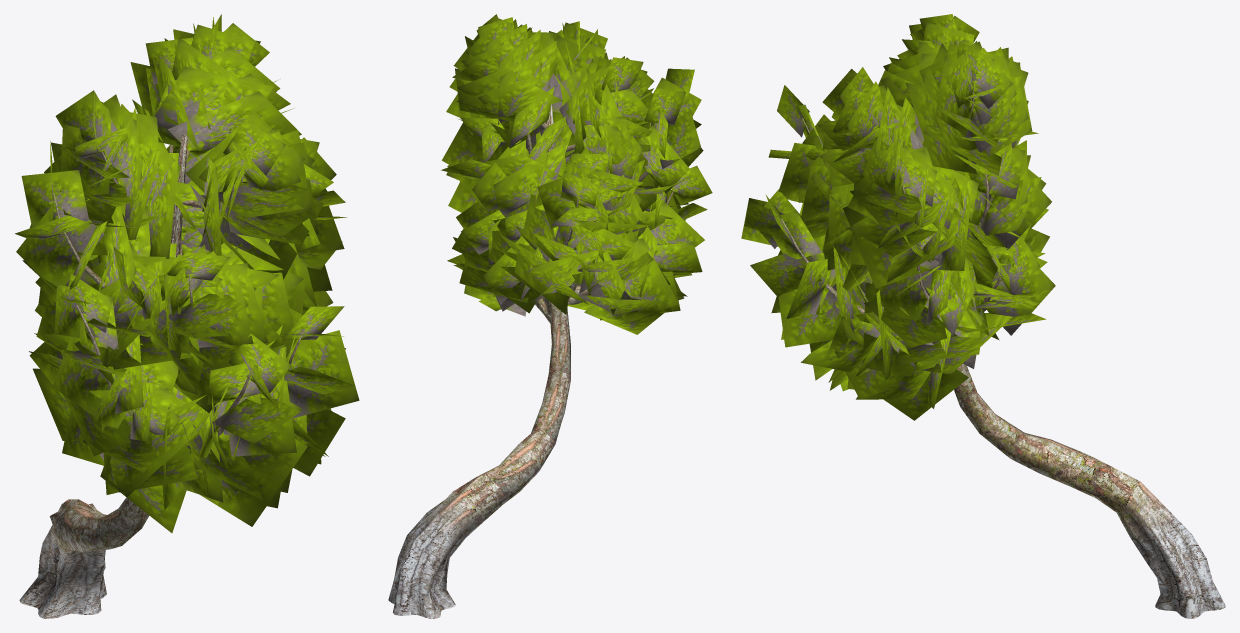
The model's file is Tree_01.fbx.
3 renders of one model, left to right at view 1: azimuth 30°, elevation 25°; view 2: azimuth 150°, elevation 25°; view 3: azimuth 270°, elevation 25°, orthographic. The views are drawn at different scales.
Visible parts, largest first — view 1: tree.005; view 2: tree.005; view 3: tree.005.
Part boxes in pixels (<box>): tree.005: <box>15,14,359,618</box>; tree.005: <box>388,14,712,618</box>; tree.005: <box>741,14,1225,618</box>.
Size of the model in its own units: 1598 by 3232 by 2511.
